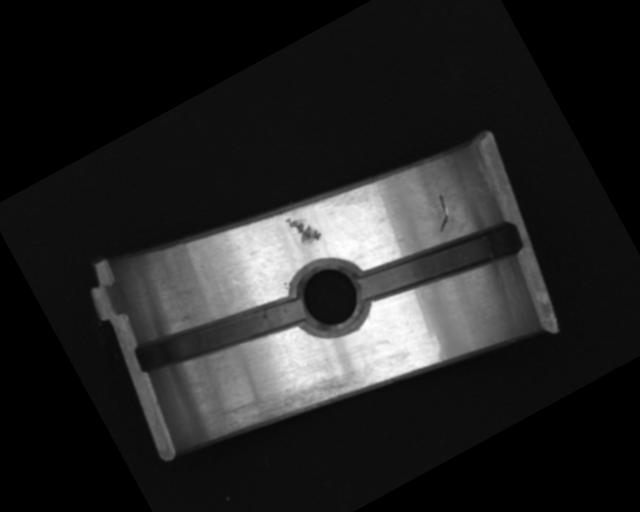bruise: (283, 208, 323, 251)
gap: (131, 269, 307, 399), (354, 200, 525, 326)
hole: (281, 249, 379, 347)
nick: (425, 192, 458, 232)
scratch: (220, 345, 367, 453)
